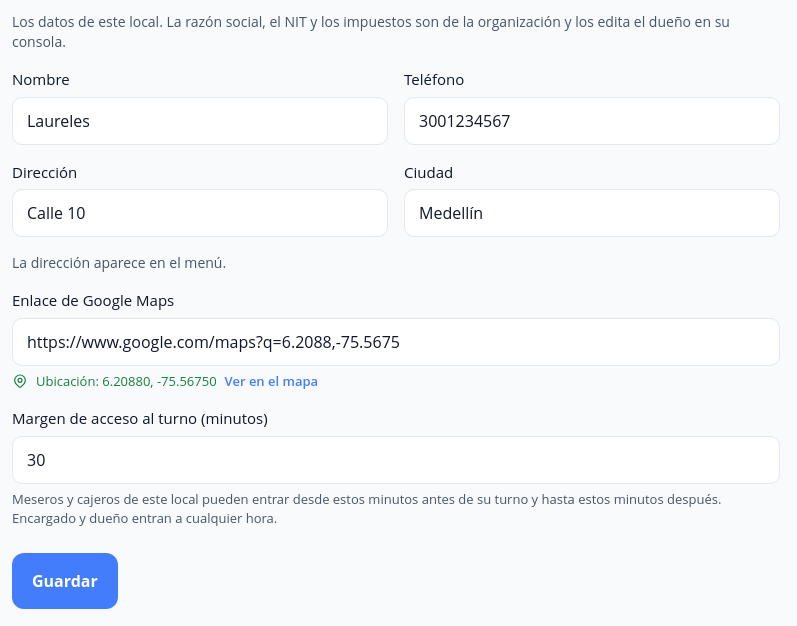
Test: borra la ubicación con null al vaciar el enlace
The width and height of the screenshot is (797, 626).
Clear the field labelled "Enlace de Google Maps" at point(396, 342), box [12,318,780,366]
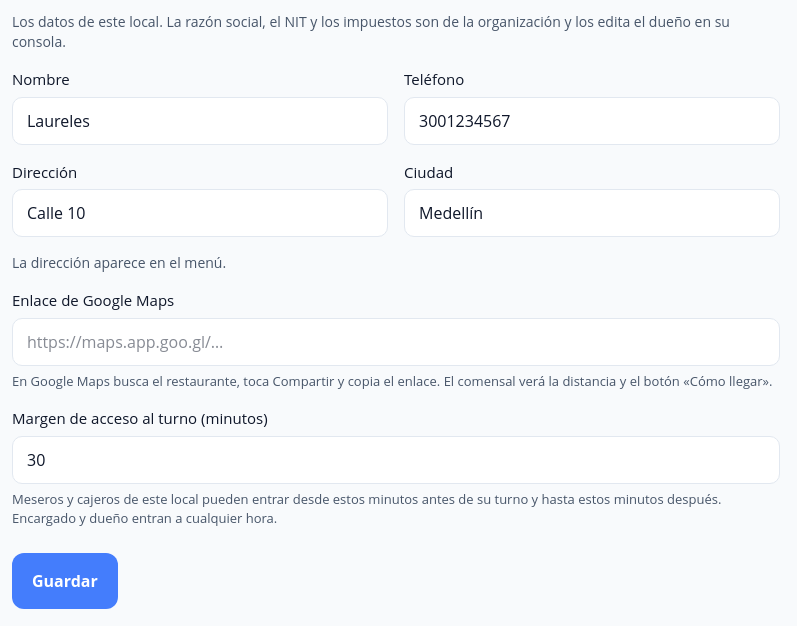
Click the button "Guardar" at point(65, 580), box [12,552,118,608]
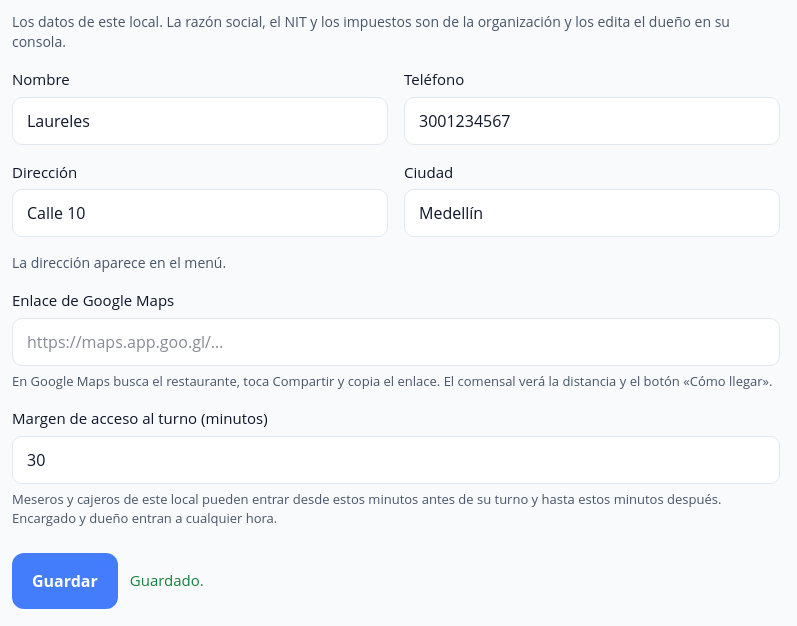
expect the message reads "Guardado.": met, box [130,570,204,590]
